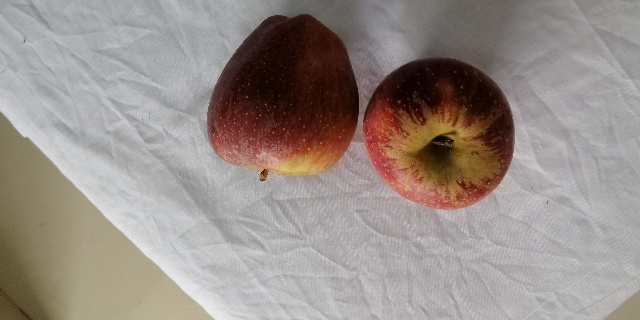apple_kashmir: (206, 16, 360, 184), (366, 57, 520, 208)
